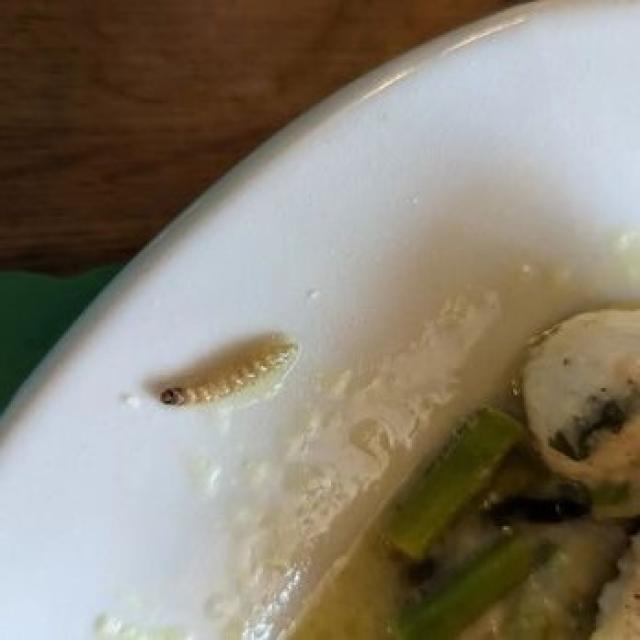worm: (163, 334, 305, 432)
